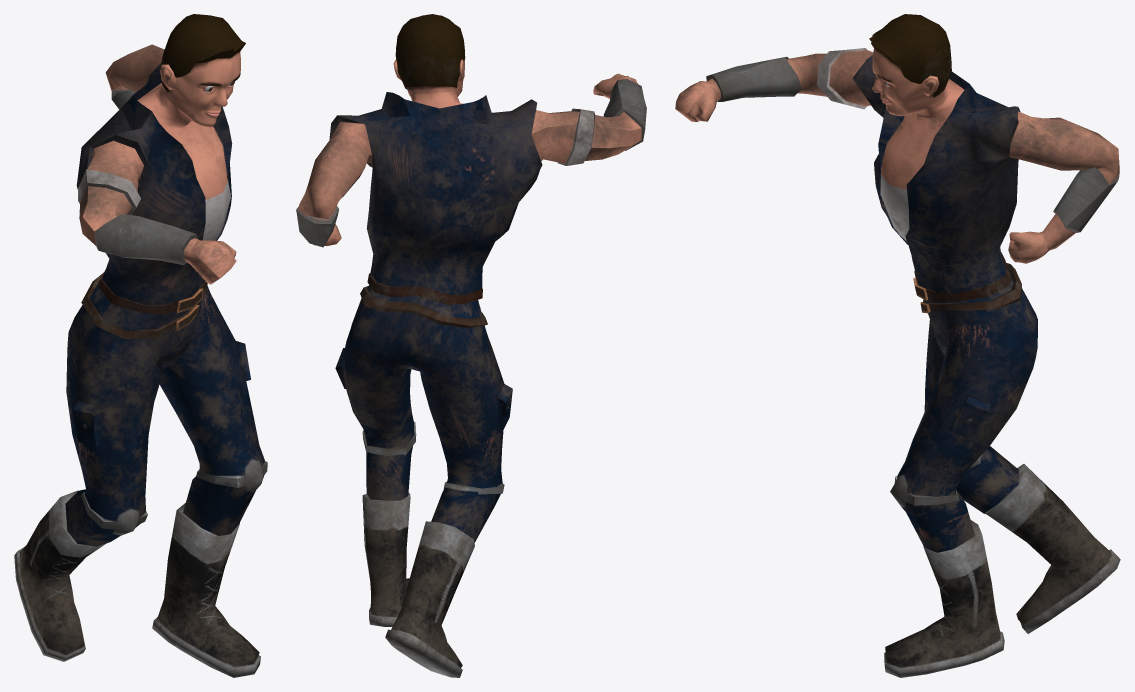
File: Anim_ataque_d2_jugador.0028.obj
3 renders of one model, left to right at view 1: azimuth 30°, elevation 25°; view 2: azimuth 150°, elevation 25°; view 3: azimuth 270°, elevation 25°, orthographic. The views are drawn at different scales.
Visible parts, largest first — view 1: polySurface1; view 2: polySurface1; view 3: polySurface1.
Boxes of the visible parts, bbox=[...] form: polySurface1: bbox=[14, 14, 267, 677]; polySurface1: bbox=[296, 14, 646, 677]; polySurface1: bbox=[675, 14, 1120, 677].
Bounding box in the file's own units: 3.62 × 9.32 × 5.81.
